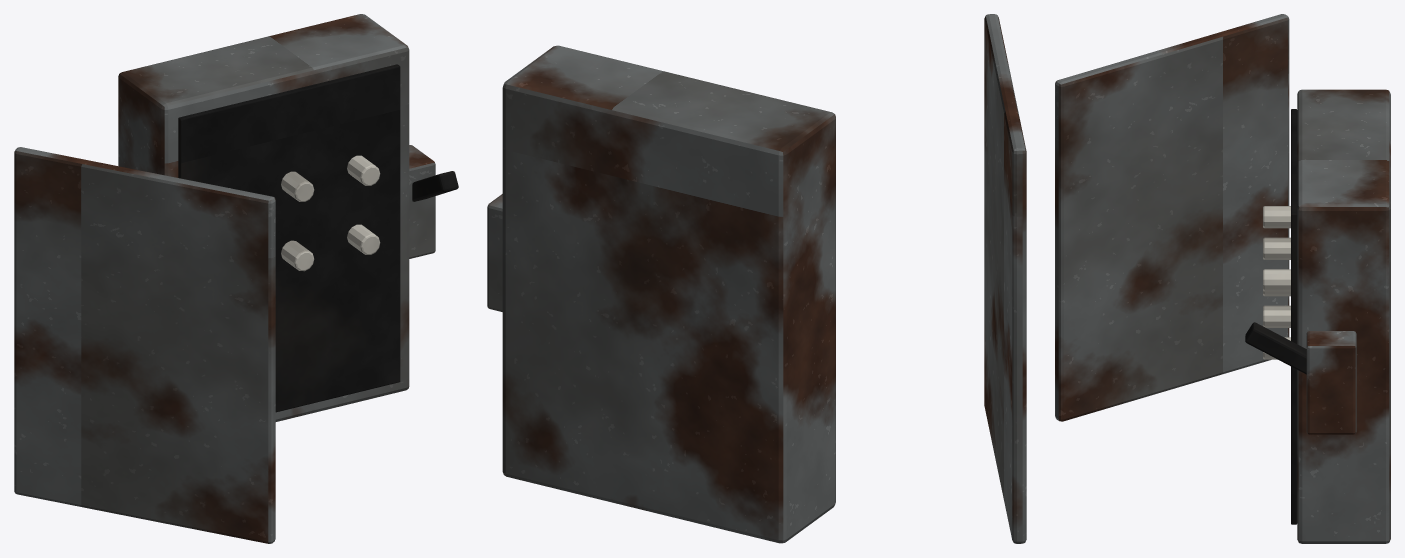
The model's file is F12_fuse_box_wall.glb.
3 views of the same model, side by side, from view 1: azimuth 30°, elevation 25°; view 2: azimuth 150°, elevation 25°; view 3: azimuth 270°, elevation 25° (orthographic). The views are drawn at different scales.
Parts seen in each view (by area): view 1: F12_fuse_box_wall; view 2: F12_fuse_box_wall; view 3: F12_fuse_box_wall.
Part boxes in pixels (x1=…): F12_fuse_box_wall: x1=14, y1=14, x2=458, y2=543; F12_fuse_box_wall: x1=487, y1=14, x2=1026, y2=543; F12_fuse_box_wall: x1=1055, y1=14, x2=1390, y2=543.
Size of the model in its own units: 0.6 by 0.4558 by 0.4084.
3 materials, 3 textured.
